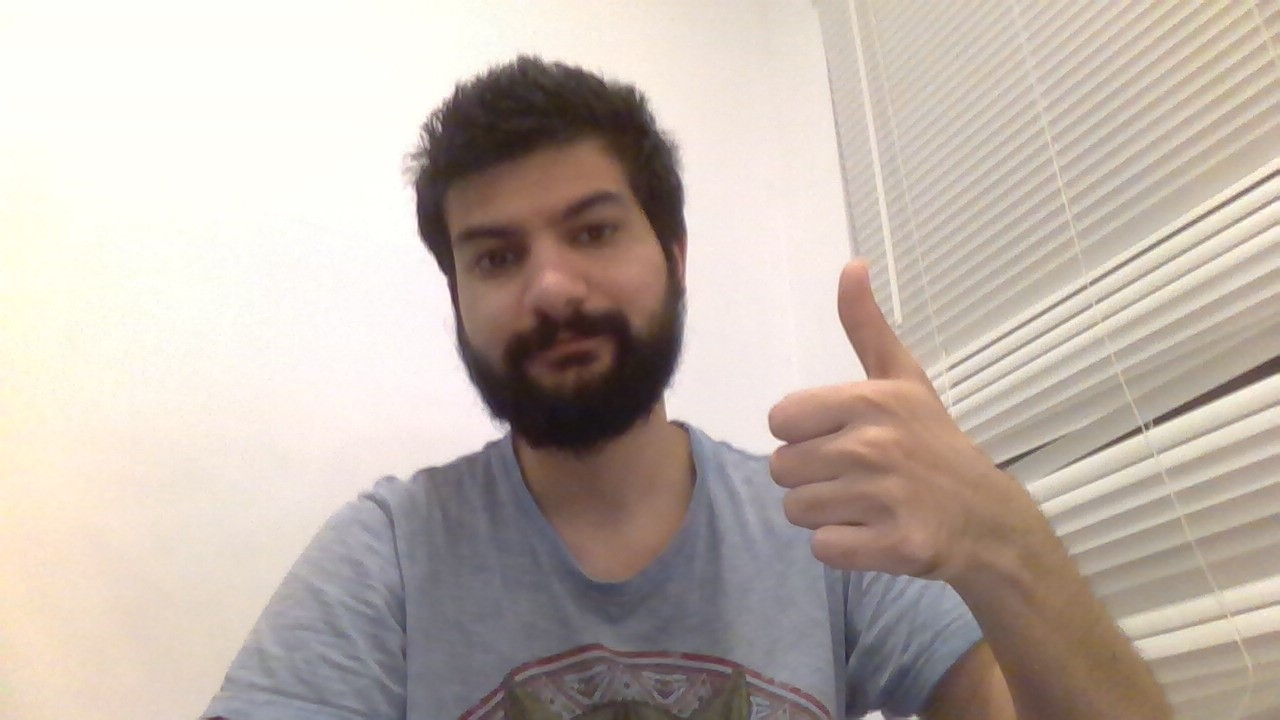up: (745, 248, 966, 581)
